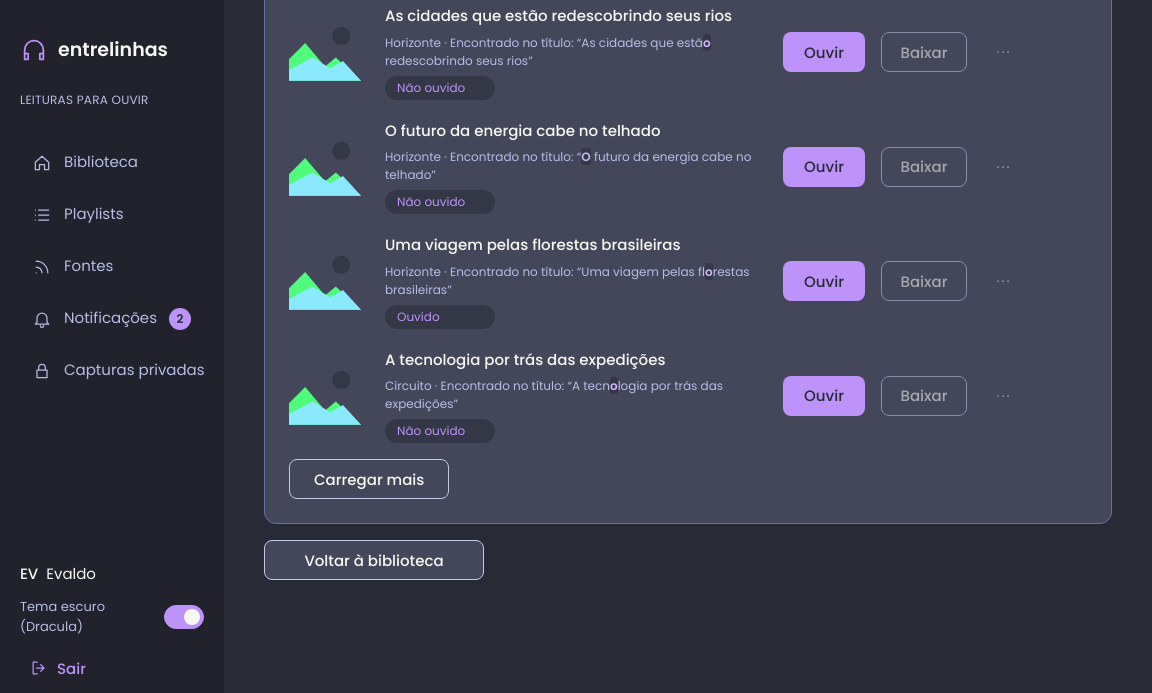
Test: load more appends the next page of the same snapshot (CA22)
The width and height of the screenshot is (1152, 693).
(page scrolled)
Click the button "Carregar mais" at (369, 479), box [289, 459, 449, 499]
(page scrolled)
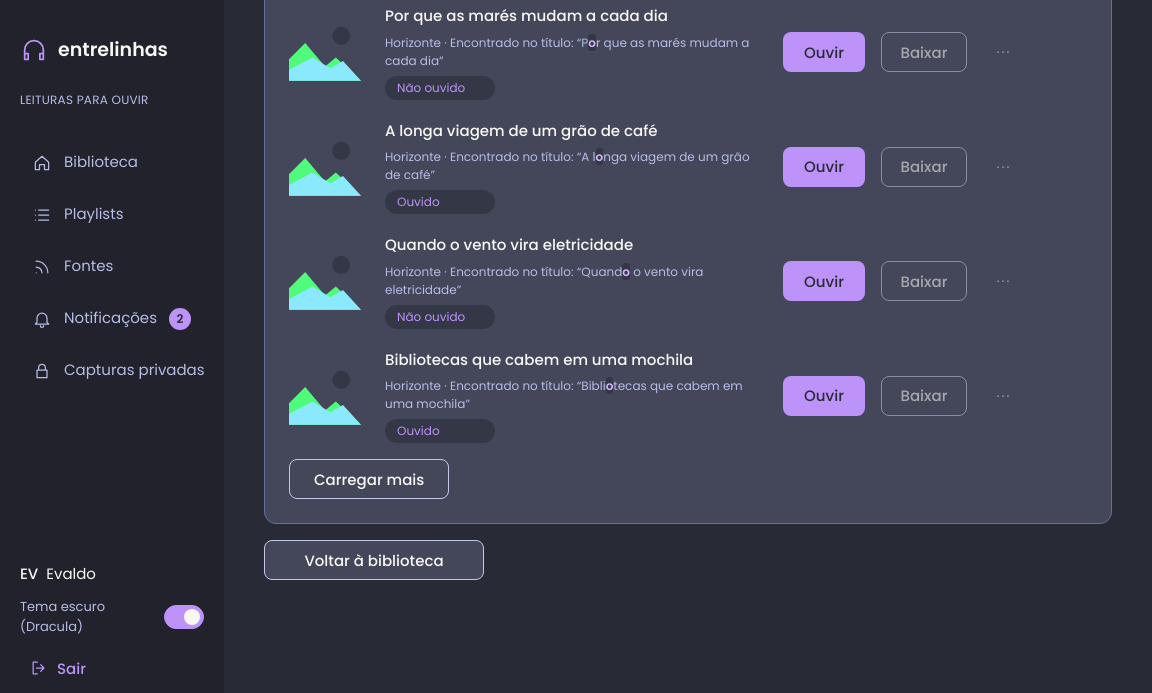
# "o" matches 16 posts: pages of 6, 6 and 4.
Click the button "Carregar mais" at (369, 479), box [289, 459, 449, 499]
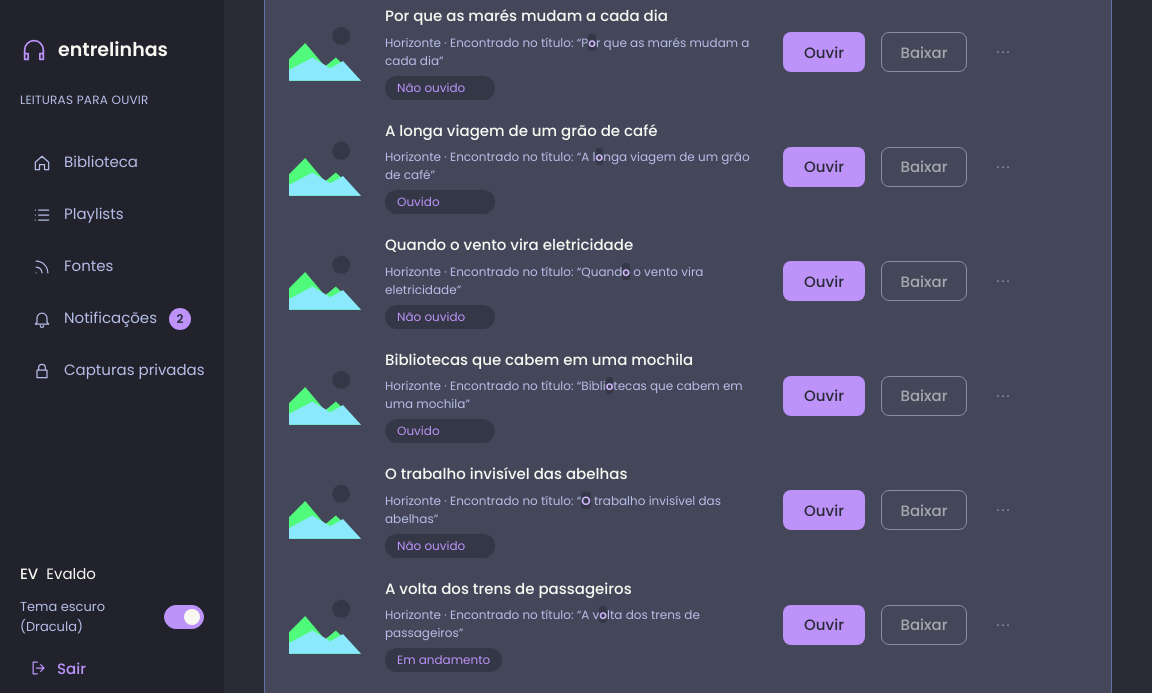
Now the button "Carregar mais" is gone
